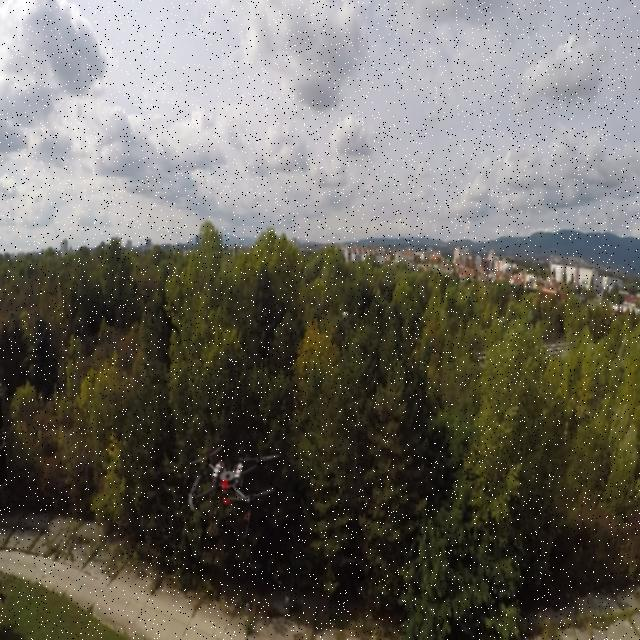UAV: (186, 444, 280, 543)
